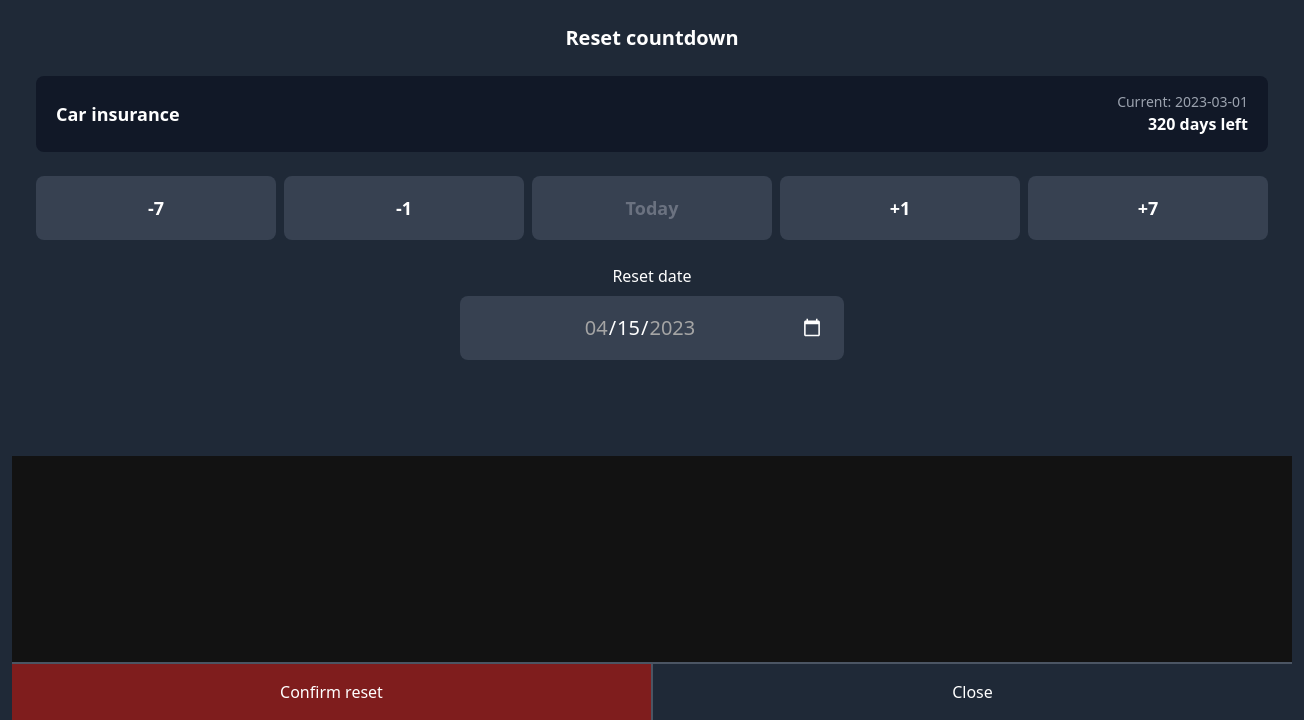
Scenario: CountdownResetBody › should add and subtract days from the current selection
The image size is (1304, 720).
Click the button "+7" at x=1148, y=208, box left=1028, top=176, right=1268, bottom=240
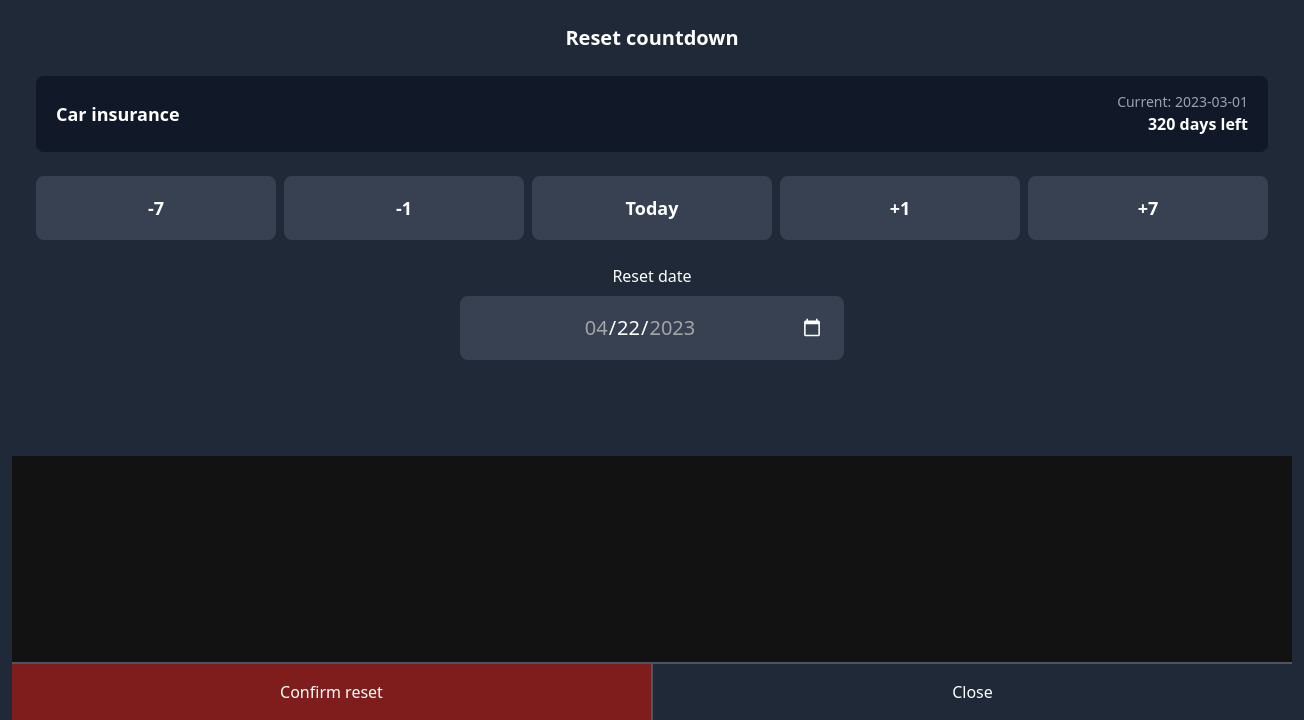
Click the button "+1" at x=900, y=208, box left=780, top=176, right=1020, bottom=240
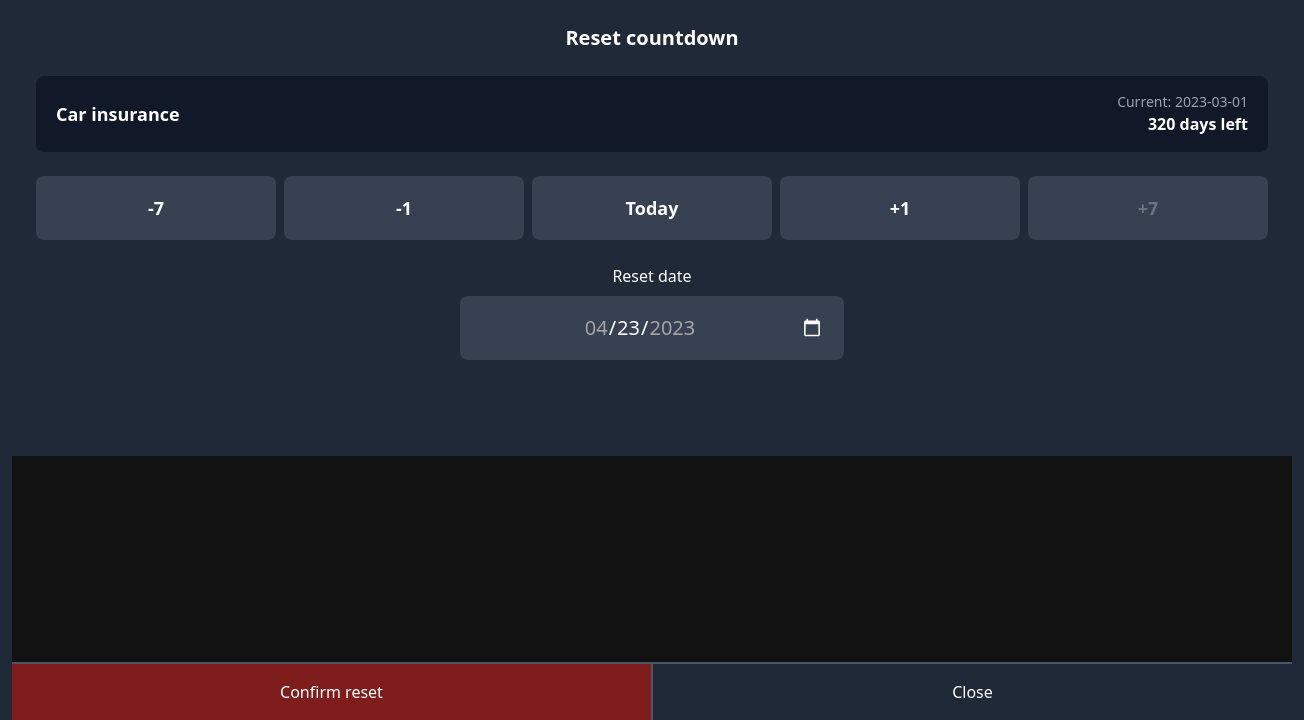
Expected: the date field labelled "Reset date" holds "2023-04-23", left=460, top=296, right=844, bottom=360
Click the button "-1" at x=404, y=208, box left=284, top=176, right=524, bottom=240
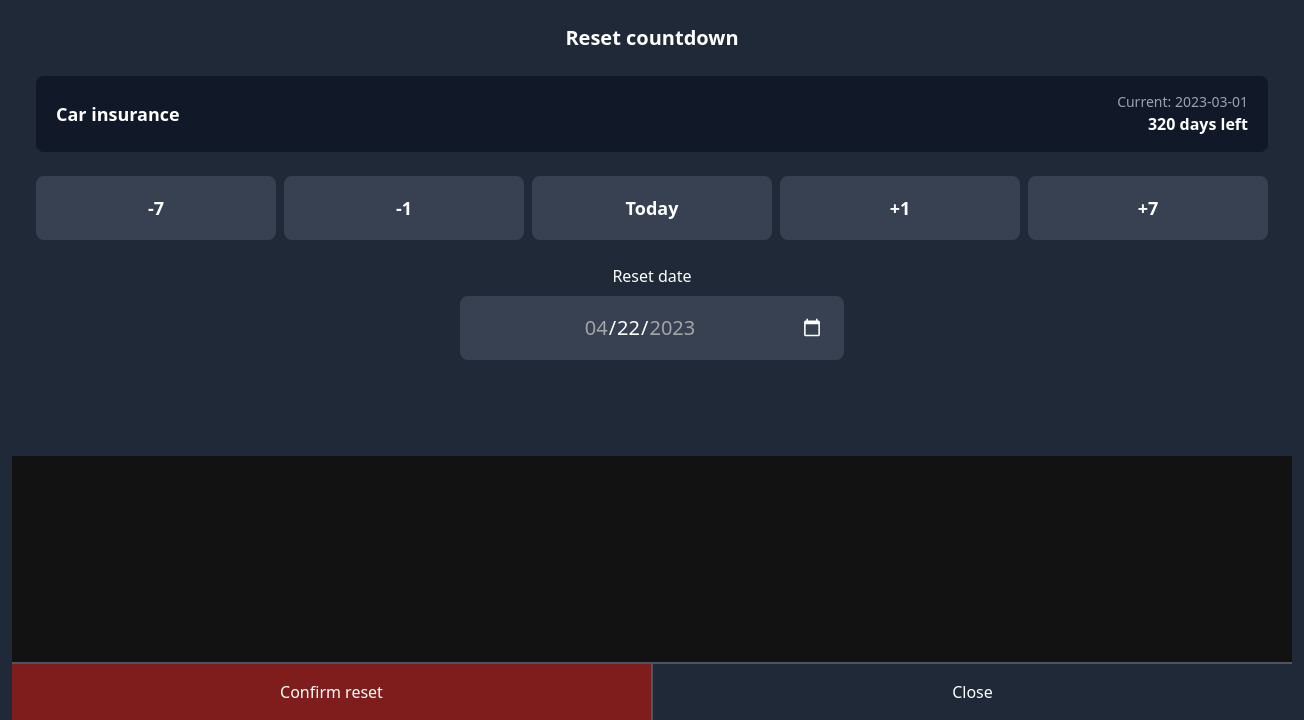
Expected: the date field labelled "Reset date" holds "2023-04-22", left=460, top=296, right=844, bottom=360
